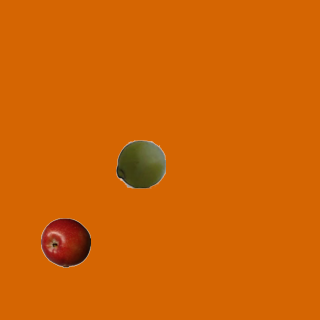Apple Braeburn: (40, 217, 90, 267)
Grape White 4: (115, 138, 165, 188)
